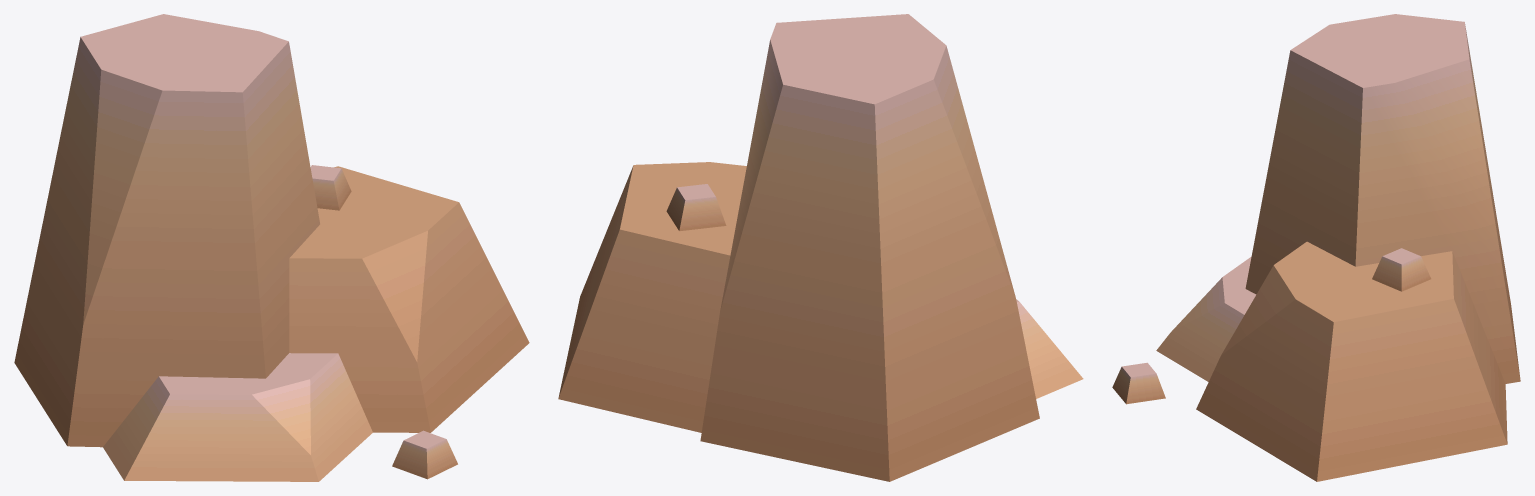
Rendered from rock-sand-a.glb.
The picture shows the model from 3 angles, left to right: view 1: azimuth 30°, elevation 25°; view 2: azimuth 150°, elevation 25°; view 3: azimuth 270°, elevation 25°; orthographic projection. The views are drawn at different scales.
Parts seen in each view (by area): view 1: rock-sand-a; view 2: rock-sand-a; view 3: rock-sand-a.
Part boxes in pixels (<box>): rock-sand-a: <box>14,14,529,481</box>; rock-sand-a: <box>558,14,1083,481</box>; rock-sand-a: <box>1112,14,1520,481</box>.
Bounding box in the file's own units: 0.5552 × 0.3927 × 0.4845.
Materials: 1 (1 with a texture image).
